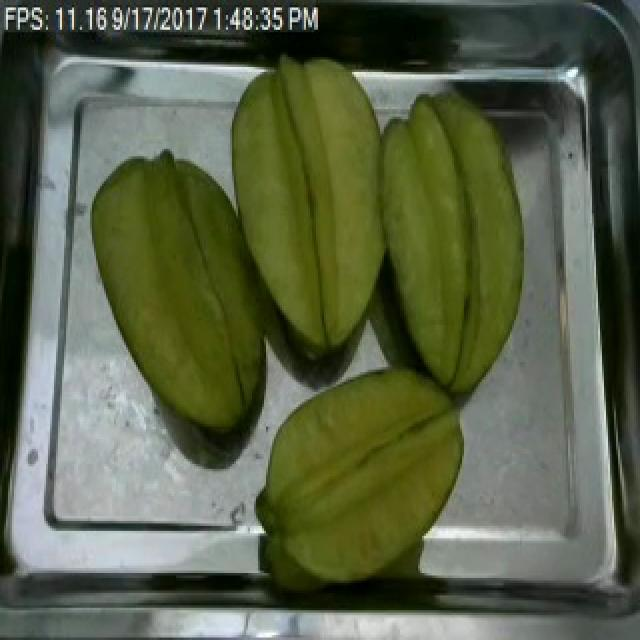fruit: (208, 42, 418, 375), (350, 62, 540, 409), (80, 144, 284, 441), (246, 357, 476, 598)
